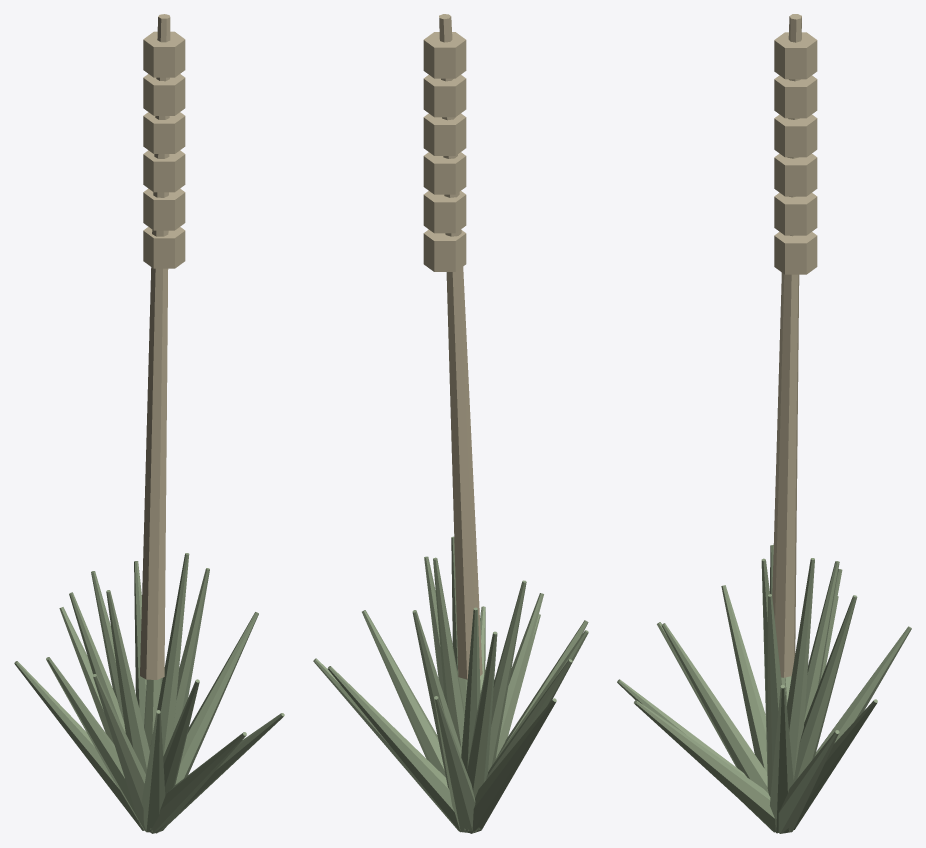
Rendered from Yucca.glb.
The picture shows the model from 3 angles, left to right: view 1: azimuth 30°, elevation 25°; view 2: azimuth 150°, elevation 25°; view 3: azimuth 270°, elevation 25°; orthographic projection. The views are drawn at different scales.
Parts seen in each view (by area): view 1: Limb.053, Limb.040, Limb.039, Limb.035, Limb.052, Limb.047, Limb.044, Limb.037, Limb.042, Seed pod.005, Limb.048, Seed pod.004 (+11 smaller); view 2: Limb.053, Limb.051, Limb.035, Limb.044, Limb.036, Limb.041, Limb.038, Limb.039, Seed pod.005, Limb.049, Seed pod.004, Seed pod.001 (+11 smaller); view 3: Limb.053, Limb.045, Limb.050, Limb.038, Limb.046, Limb.047, Limb.048, Limb.035, Seed pod.005, Limb.043, Seed pod, Seed pod.001 (+8 smaller).
Part boxes in pixels (box(x1,y1,x2,y2)): Limb.053: box(140, 14, 170, 679); Limb.040: box(150, 553, 189, 756); Limb.039: box(106, 590, 149, 774); Limb.035: box(175, 612, 258, 784); Limb.052: box(46, 657, 145, 831); Limb.047: box(92, 674, 152, 831); Limb.044: box(14, 661, 143, 830); Limb.037: box(150, 732, 246, 833); Limb.042: box(142, 710, 165, 832); Seed pod.005: box(143, 31, 185, 77); Limb.048: box(173, 568, 209, 731); Seed pod.004: box(143, 74, 185, 115); Limb.053: box(439, 14, 482, 679); Limb.051: box(327, 666, 460, 832); Limb.035: box(362, 610, 445, 777); Limb.044: box(467, 698, 556, 833); Limb.036: box(466, 631, 497, 831); Limb.041: box(434, 696, 475, 833); Limb.038: box(433, 557, 464, 749); Limb.039: box(488, 580, 526, 771); Seed pod.005: box(423, 32, 466, 78); Limb.049: box(461, 607, 480, 829); Seed pod.004: box(423, 75, 466, 117); Seed pod.001: box(423, 191, 466, 233); Limb.053: box(772, 14, 801, 677); Limb.045: box(634, 700, 778, 833); Limb.050: box(661, 623, 768, 793); Limb.038: box(787, 558, 814, 779); Limb.046: box(793, 595, 857, 782); Limb.047: box(721, 585, 767, 772); Limb.048: box(767, 594, 781, 797); Limb.035: box(770, 685, 793, 831); Seed pod.005: box(774, 32, 817, 79); Limb.043: box(778, 730, 839, 833); Seed pod: box(774, 232, 817, 274); Seed pod.001: box(774, 192, 817, 235).
Bounding box in the file's own units: 0.6561 × 2.1 × 0.6837.
